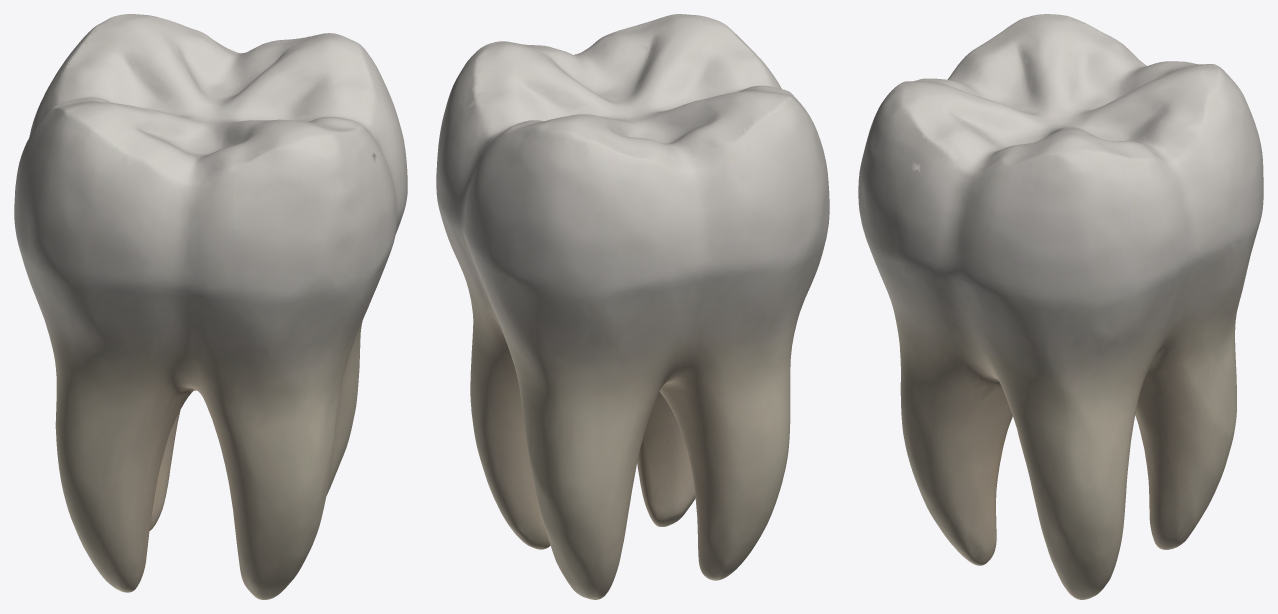
File: tooth.glb
The picture shows the model from 3 angles, left to right: view 1: azimuth 30°, elevation 25°; view 2: azimuth 150°, elevation 25°; view 3: azimuth 270°, elevation 25°; orthographic projection. The views are drawn at different scales.
Parts seen in each view (by area): view 1: tripo_node_e8c7ae62-65f7-4fa9-a63d-094a86c3d4d6; view 2: tripo_node_e8c7ae62-65f7-4fa9-a63d-094a86c3d4d6; view 3: tripo_node_e8c7ae62-65f7-4fa9-a63d-094a86c3d4d6.
Part boxes in pixels (x1=…): tripo_node_e8c7ae62-65f7-4fa9-a63d-094a86c3d4d6: x1=14, y1=14, x2=407, y2=599; tripo_node_e8c7ae62-65f7-4fa9-a63d-094a86c3d4d6: x1=436, y1=14, x2=829, y2=599; tripo_node_e8c7ae62-65f7-4fa9-a63d-094a86c3d4d6: x1=858, y1=14, x2=1263, y2=599.
Bounding box in the file's own units: 0.7556 × 1 × 0.7585.
1 material, 1 textured.
